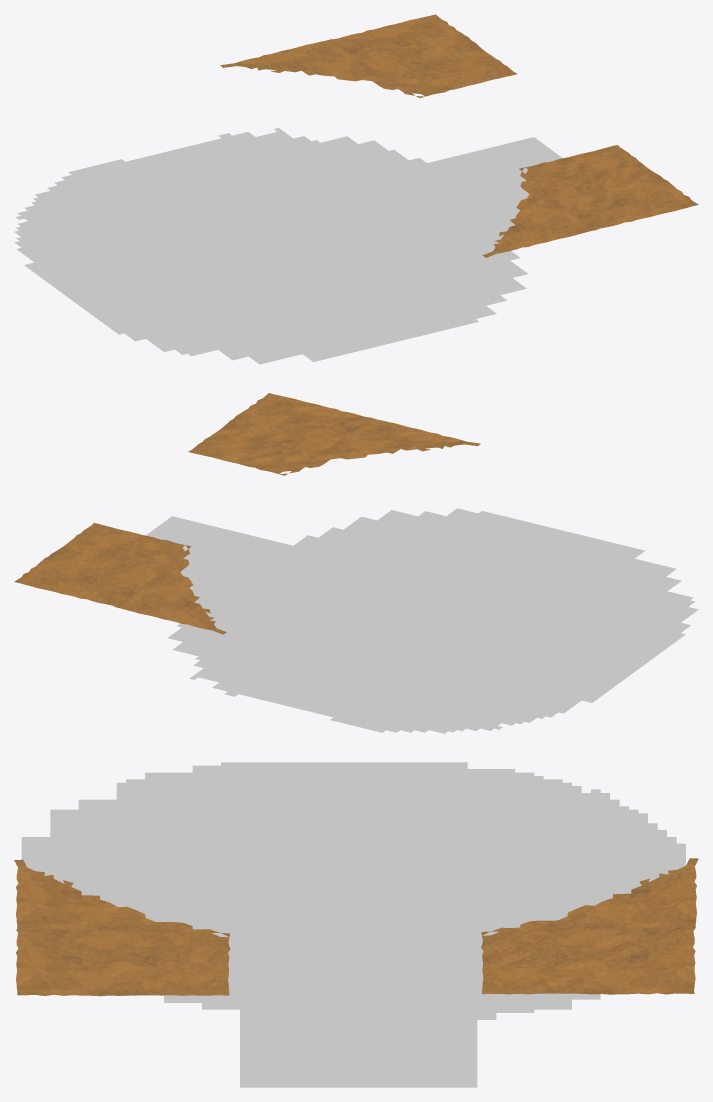
File: Floor_BossRooms.fbx
3 views of the same model, one above another, from view 1: azimuth 30°, elevation 25°; view 2: azimuth 150°, elevation 25°; view 3: azimuth 270°, elevation 25° (orthographic). The views are drawn at different scales.
Parts seen in each view (by area): view 1: MediumFloor, TopFloors; view 2: MediumFloor, TopFloors; view 3: MediumFloor, TopFloors.
Part boxes in pixels (bbox=[...]): MediumFloor: bbox=[14, 128, 562, 364]; TopFloors: bbox=[220, 14, 698, 257]; MediumFloor: bbox=[146, 508, 698, 733]; TopFloors: bbox=[14, 393, 480, 634]; MediumFloor: bbox=[21, 762, 685, 1087]; TopFloors: bbox=[14, 858, 698, 996].
Bounding box in the file's own units: 3286 × 397 × 2924.
Materials: 1 (1 with a texture image).
